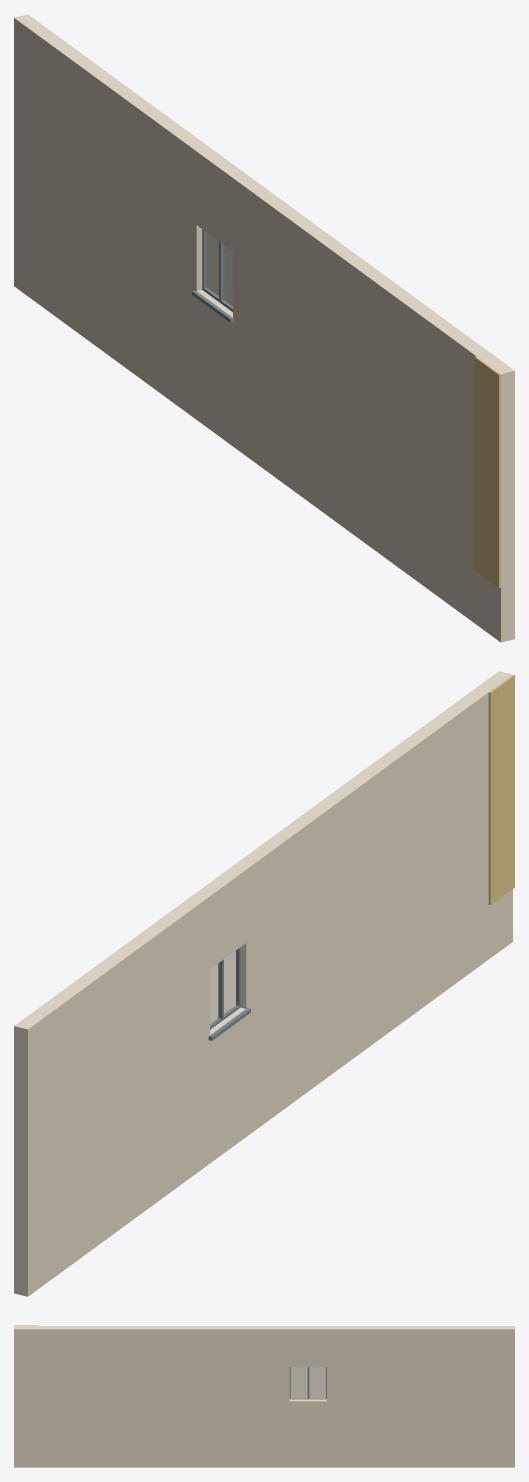
Rendered from tb_mansion_module_end_l_ground_01.fbx.
3 views of the same model, one above another, from view 1: azimuth 30°, elevation 25°; view 2: azimuth 150°, elevation 25°; view 3: azimuth 270°, elevation 25° (orthographic). The views are drawn at different scales.
Visible parts, largest first — view 1: tb_mansion_module_end_l_ground_01; view 2: tb_mansion_module_end_l_ground_01; view 3: tb_mansion_module_end_l_ground_01.
Part boxes in pixels (x1,y1,x2,y2): tb_mansion_module_end_l_ground_01: [14, 14, 514, 642]; tb_mansion_module_end_l_ground_01: [14, 671, 514, 1296]; tb_mansion_module_end_l_ground_01: [14, 1325, 514, 1467].
Size of what is drawn, in the model's own units: 0.25 by 3.65 by 12.
Materials: 2 (2 with a texture image).
